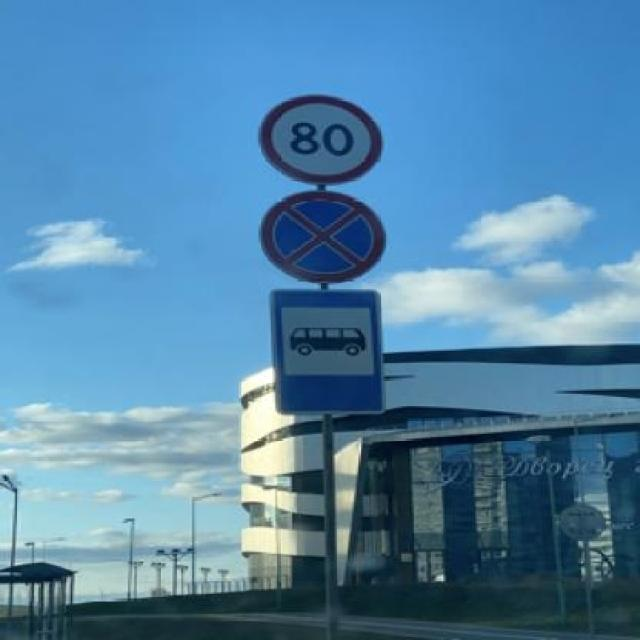forb_speed_over_80: (260, 95, 382, 186)
